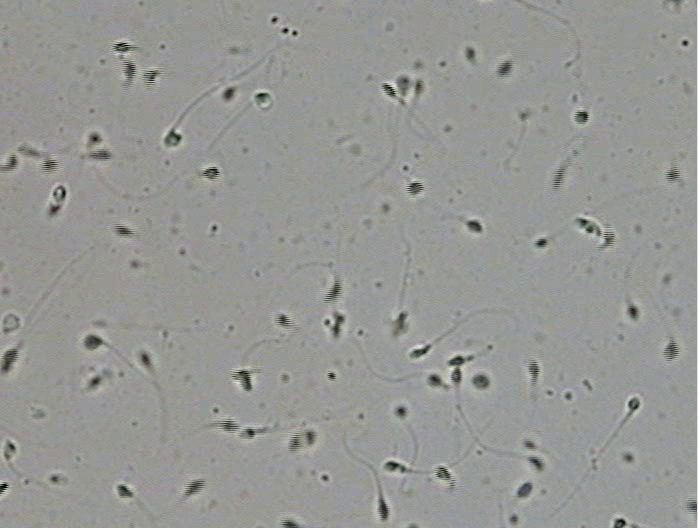S: (575, 217, 601, 236), (231, 369, 252, 391), (323, 281, 342, 304), (1, 349, 19, 373), (183, 479, 206, 497), (663, 340, 680, 362), (121, 59, 137, 82), (331, 313, 345, 338), (526, 359, 540, 384), (393, 311, 408, 334), (551, 167, 565, 191), (377, 496, 389, 522), (83, 335, 103, 350), (112, 223, 133, 237), (142, 70, 159, 87), (496, 60, 513, 77), (434, 465, 452, 481), (220, 418, 239, 433), (405, 181, 425, 195), (89, 149, 112, 161), (665, 167, 682, 183), (516, 482, 533, 498), (397, 75, 412, 93), (288, 433, 302, 452), (3, 440, 16, 460), (381, 82, 397, 98), (275, 312, 292, 327), (472, 374, 489, 389), (164, 132, 182, 146), (41, 159, 59, 173), (408, 346, 429, 358), (603, 229, 616, 248), (4, 154, 18, 171), (116, 484, 133, 498), (52, 185, 66, 202), (202, 167, 220, 180), (112, 41, 133, 52), (528, 456, 543, 471), (426, 374, 442, 388), (466, 219, 482, 233), (573, 110, 589, 124), (686, 496, 697, 515), (238, 427, 255, 439), (450, 366, 462, 383), (447, 355, 465, 366), (46, 203, 61, 216), (280, 518, 299, 528), (626, 305, 639, 319), (88, 132, 103, 144), (138, 351, 150, 366), (628, 397, 640, 411), (255, 92, 270, 103), (414, 79, 425, 94), (222, 87, 234, 100), (394, 406, 407, 418), (464, 46, 475, 60), (613, 517, 627, 528), (384, 461, 399, 471), (88, 376, 100, 388), (534, 238, 548, 248), (1, 481, 9, 496), (523, 439, 535, 449)
